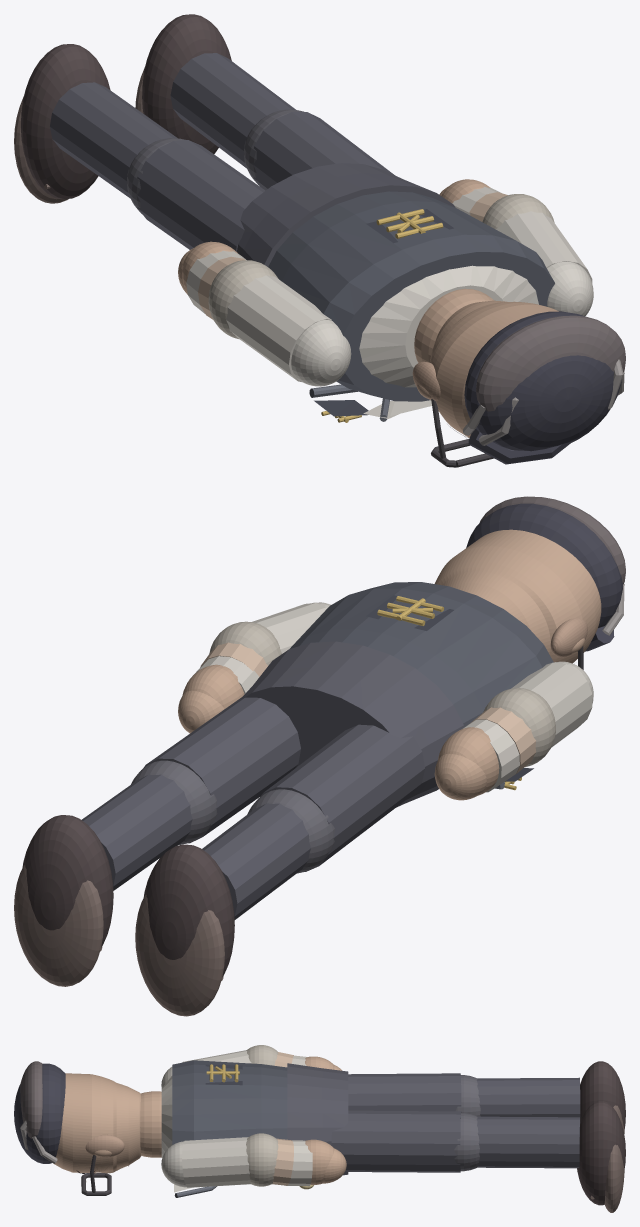
The model's file is mr_chen_hybrid_face_v2.glb.
The picture shows the model from 3 angles, top to bottom: view 1: azimuth 30°, elevation 25°; view 2: azimuth 150°, elevation 25°; view 3: azimuth 270°, elevation 25°; orthographic projection. The views are drawn at different scales.
Parts seen in each view (by area): view 1: mat_282832, mat_e3d9c9, mat_242731, mat_21191a, mat_181821, mat_c88c68, mat_3c3335, mat_b9ab96, mat_35343d, mat_56413b, mat_ddaa86, mat_d39a35 (+4 smaller); view 2: mat_282832, mat_c88c68, mat_242731, mat_21191a, mat_56413b, mat_e3d9c9, mat_181821, mat_35343d, mat_b9ab96, mat_ddaa86, mat_3c3335, mat_d39a35 (+1 smaller); view 3: mat_282832, mat_c88c68, mat_242731, mat_e3d9c9, mat_21191a, mat_181821, mat_b9ab96, mat_35343d, mat_3c3335, mat_56413b, mat_ddaa86, mat_a87458 (+3 smaller).
Part boxes in pixels (left/top/right/bottom): mat_282832: left=50, top=53, right=455, bottom=266; mat_e3d9c9: left=186, top=186, right=593, bottom=418; mat_242731: left=268, top=191, right=554, bottom=401; mat_21191a: left=21, top=14, right=231, bottom=199; mat_181821: left=464, top=311, right=621, bottom=464; mat_c88c68: left=178, top=179, right=558, bottom=437; mat_3c3335: left=476, top=315, right=625, bottom=411; mat_b9ab96: left=208, top=194, right=554, bottom=338; mat_35343d: left=127, top=109, right=303, bottom=214; mat_56413b: left=14, top=67, right=144, bottom=203; mat_ddaa86: left=198, top=192, right=507, bottom=319; mat_d39a35: left=321, top=209, right=443, bottom=422; mat_282832: left=81, top=641, right=464, bottom=919; mat_c88c68: left=178, top=529, right=601, bottom=800; mat_242731: left=290, top=582, right=553, bottom=726; mat_21191a: left=22, top=815, right=234, bottom=977; mat_56413b: left=14, top=865, right=224, bottom=1016; mat_e3d9c9: left=190, top=602, right=593, bottom=792; mat_181821: left=466, top=503, right=622, bottom=651; mat_35343d: left=131, top=760, right=334, bottom=873; mat_b9ab96: left=209, top=621, right=555, bottom=767; mat_ddaa86: left=200, top=642, right=536, bottom=774; mat_3c3335: left=479, top=496, right=625, bottom=584; mat_d39a35: left=377, top=596, right=521, bottom=790; mat_282832: left=287, top=1063, right=580, bottom=1175; mat_c88c68: left=53, top=1056, right=346, bottom=1184; mat_242731: left=172, top=1060, right=287, bottom=1144; mat_e3d9c9: left=161, top=1050, right=312, bottom=1187; mat_21191a: left=577, top=1061, right=625, bottom=1205; mat_181821: left=14, top=1063, right=65, bottom=1163; mat_b9ab96: left=246, top=1045, right=278, bottom=1186; mat_35343d: left=454, top=1075, right=480, bottom=1171; mat_3c3335: left=20, top=1061, right=42, bottom=1138; mat_56413b: left=590, top=1105, right=624, bottom=1212; mat_ddaa86: left=272, top=1052, right=293, bottom=1185; mat_a87458: left=85, top=1134, right=124, bottom=1157.
Bounding box in the file's own units: 0.8073 × 0.4208 × 1.9.
Materials: 1 (1 with a texture image).
